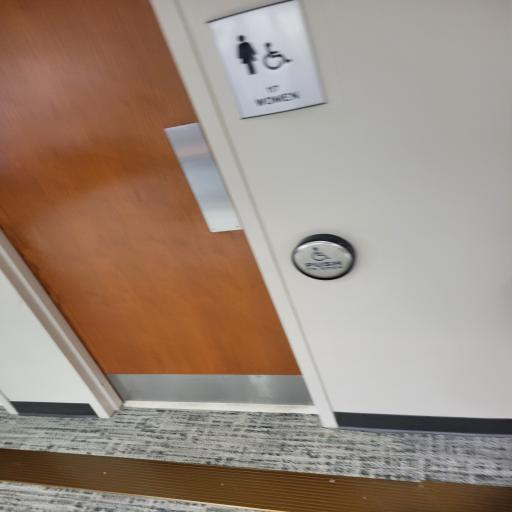door: (8, 0, 262, 410)
handicap push button: (289, 228, 364, 285)
women bathroom sign: (213, 0, 336, 116)
